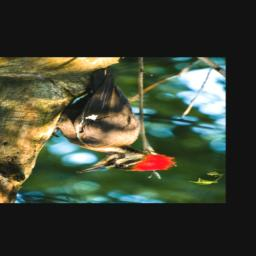Woodpecker: (44, 67, 176, 174)
